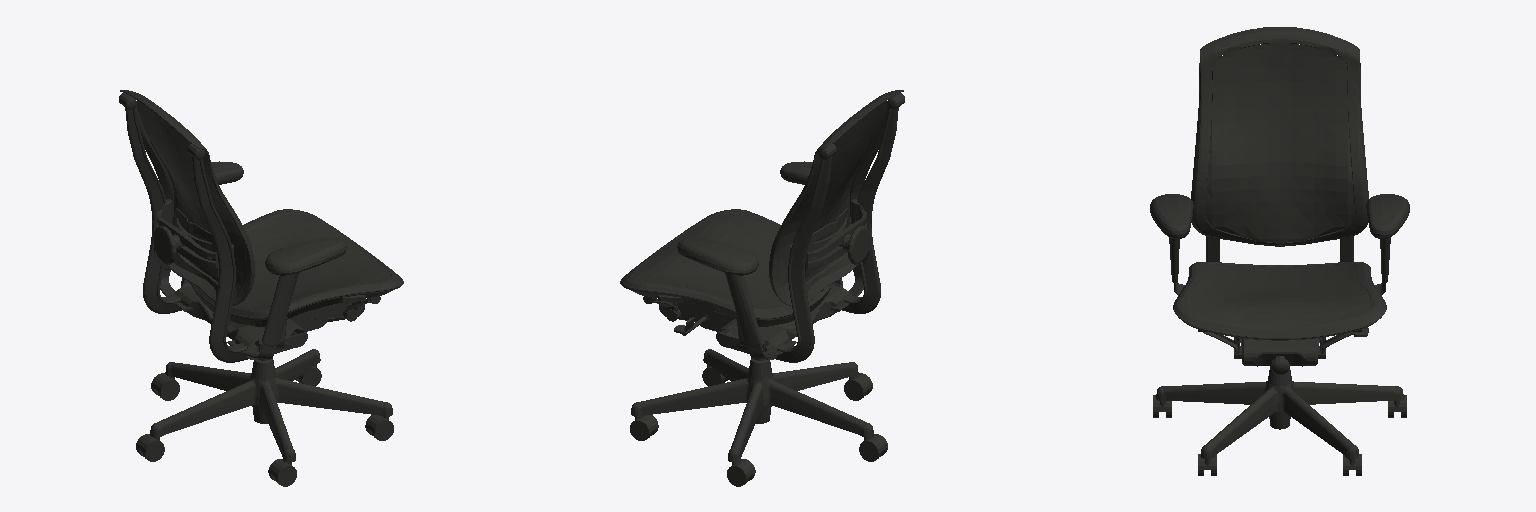
The model's file is HMI_Celle_Chair_3D.obj.
The picture shows the model from 3 angles: view 1: azimuth 30°, elevation 25°; view 2: azimuth 150°, elevation 25°; view 3: azimuth 270°, elevation 25°; orthographic projection.
Parts seen in each view (by area): view 1: HBase, HBkSppt, HCelSeat, HCelBk, HSldBk, HSldSeat, HCaster, HLumbar, HArmPad, HTiltCvr, HArm; view 2: HBase, HBkSppt, HCelSeat, HCelBk, HSldBk, HSldSeat, HLumbar, HCaster, HArmPad, HTiltCvr, HArm; view 3: HCelBk, HCelSeat, HBase, HSldBk, HSldSeat, HArmPad, HTiltCvr, HCaster, HArm, HBkSppt.
Boxes of the visible parts, x1=… form: HBase: x1=150, y1=278, x2=392, y2=462; HBkSppt: x1=119, y1=93, x2=307, y2=362; HCelSeat: x1=239, y1=212, x2=390, y2=307; HCelBk: x1=137, y1=101, x2=246, y2=287; HSldBk: x1=120, y1=90, x2=254, y2=305; HSldSeat: x1=190, y1=209, x2=403, y2=326; HCaster: x1=136, y1=364, x2=393, y2=486; HLumbar: x1=153, y1=199, x2=233, y2=275; HArmPad: x1=211, y1=161, x2=346, y2=275; HTiltCvr: x1=178, y1=285, x2=364, y2=349; HArm: x1=160, y1=264, x2=298, y2=359; HBase: x1=631, y1=278, x2=873, y2=462; HBkSppt: x1=716, y1=93, x2=904, y2=362; HCelSeat: x1=633, y1=212, x2=784, y2=307; HCelBk: x1=777, y1=101, x2=886, y2=287; HSldBk: x1=769, y1=90, x2=903, y2=305; HSldSeat: x1=620, y1=209, x2=833, y2=326; HLumbar: x1=790, y1=199, x2=871, y2=275; HCaster: x1=630, y1=364, x2=887, y2=486; HArmPad: x1=677, y1=161, x2=812, y2=275; HTiltCvr: x1=659, y1=285, x2=845, y2=349; HArm: x1=725, y1=264, x2=863, y2=359; HCelBk: x1=1205, y1=43, x2=1354, y2=242; HCelSeat: x1=1186, y1=264, x2=1373, y2=326; HBase: x1=1156, y1=329, x2=1403, y2=458; HSldBk: x1=1191, y1=27, x2=1368, y2=246; HSldSeat: x1=1173, y1=262, x2=1386, y2=340; HArmPad: x1=1150, y1=194, x2=1409, y2=238; HTiltCvr: x1=1234, y1=337, x2=1325, y2=366; HCaster: x1=1153, y1=395, x2=1406, y2=475; HArm: x1=1169, y1=237, x2=1390, y2=294; HBkSppt: x1=1206, y1=56, x2=1353, y2=261.
Size of the model in its own units: 2.81 by 4.11 by 2.75.